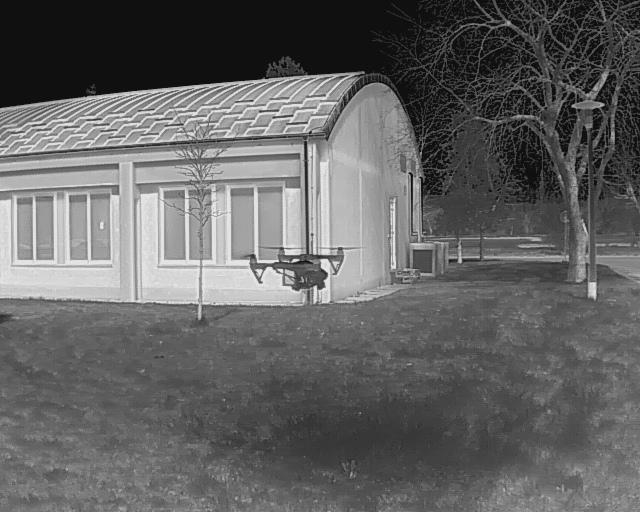drone: (232, 232, 351, 300)
